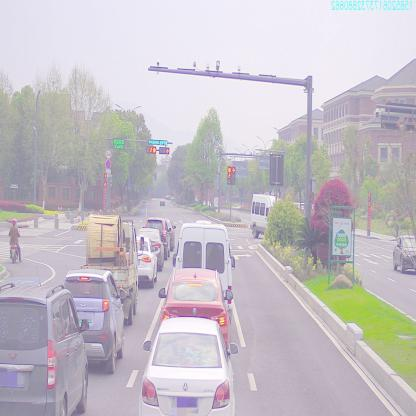traffic-light: (146, 138, 168, 146), (145, 146, 156, 154), (160, 147, 170, 155)
